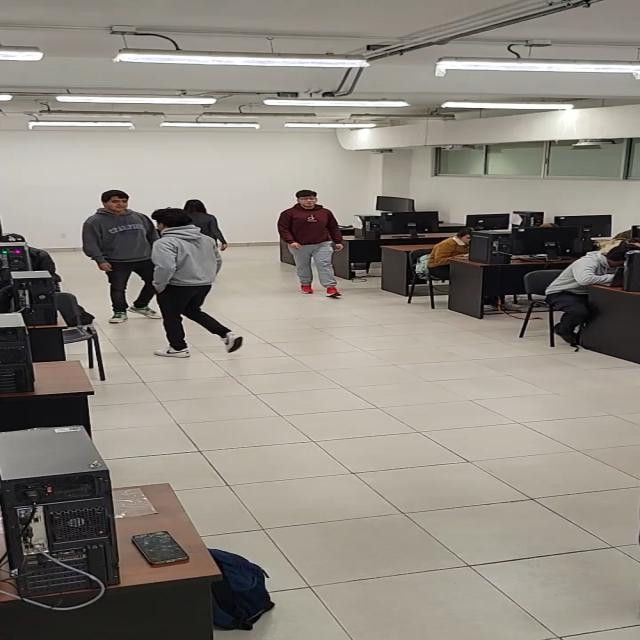Persona: (148, 206, 247, 369), (78, 183, 156, 327), (273, 185, 352, 303)
